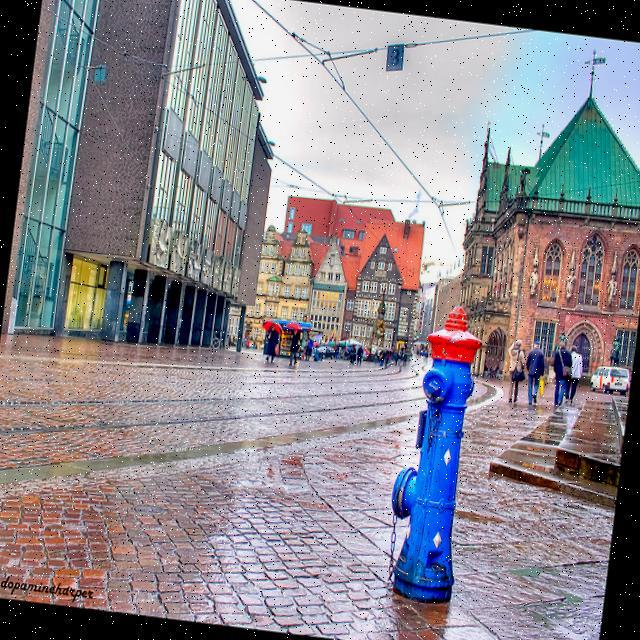fire_hydrant: (378, 296, 489, 602)
